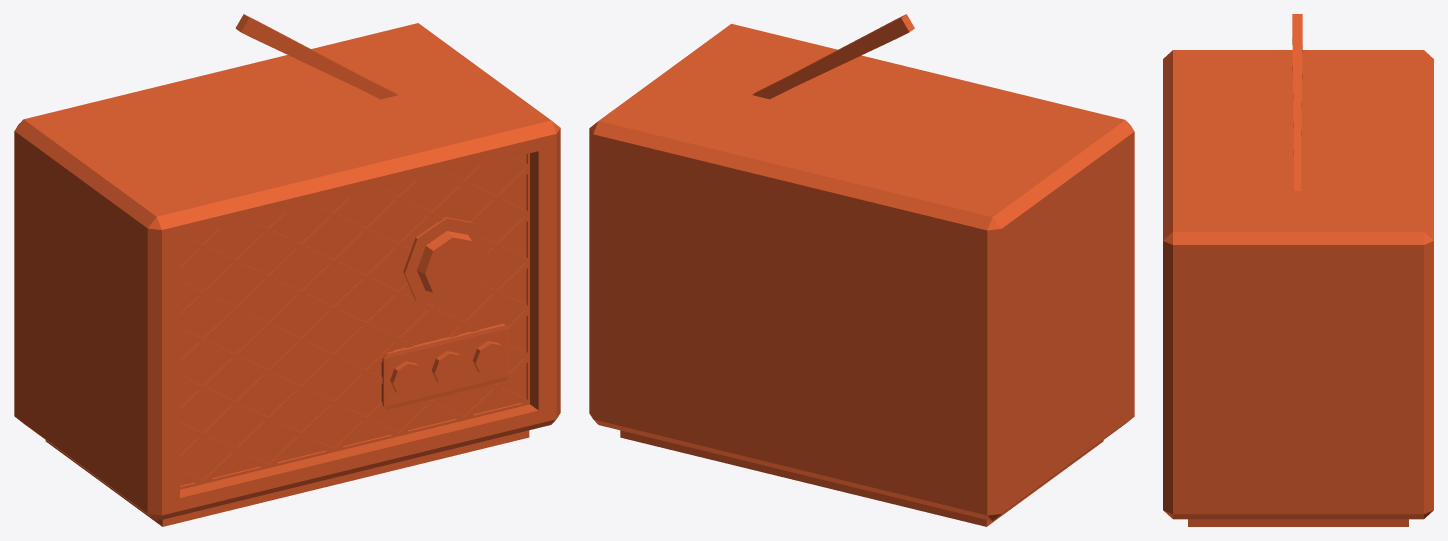
Rendered from RadioBoxWithMaterials.glb.
3 renders of one model, left to right at view 1: azimuth 30°, elevation 25°; view 2: azimuth 150°, elevation 25°; view 3: azimuth 270°, elevation 25°, orthographic. The views are drawn at different scales.
Parts seen in each view (by area): view 1: Cylinder.003; view 2: Cylinder.003; view 3: Cylinder.003.
Boxes of the visible parts, box(x1,y1,x2,y2) form: Cylinder.003: box(14, 14, 560, 526); Cylinder.003: box(589, 14, 1134, 526); Cylinder.003: box(1163, 14, 1433, 526).
Size of the model in its own units: 0.2 by 0.2009 by 0.1205.
